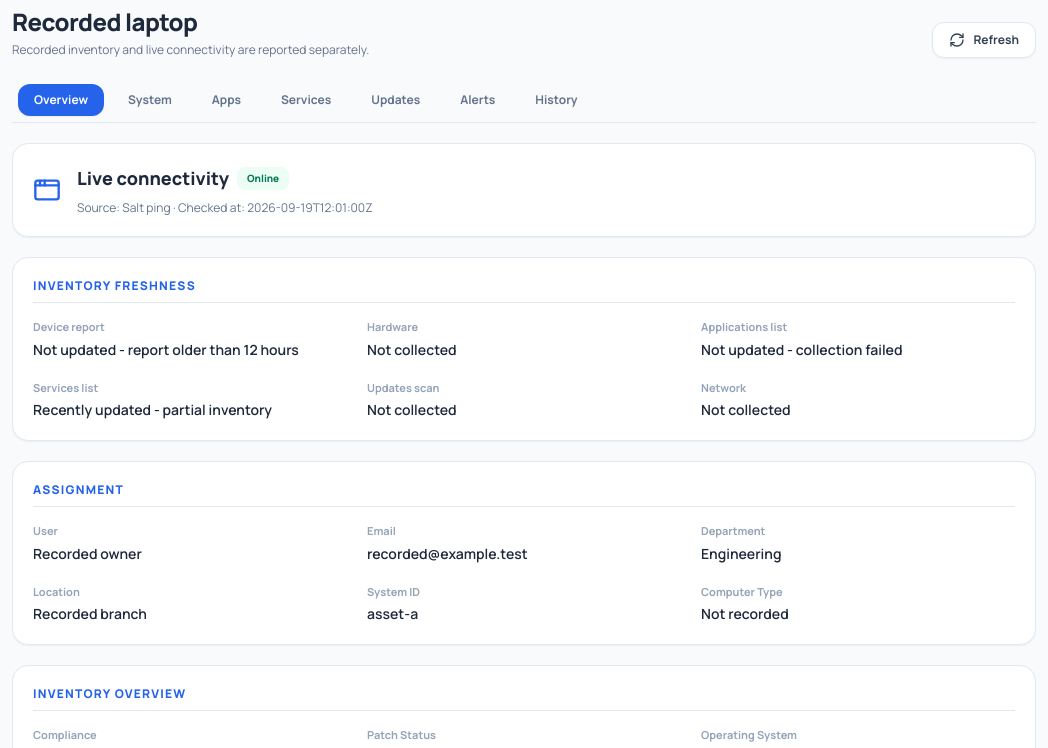
actual device inventory › shows inventory freshness and recorded services without issuing mutations
Check: the heading "Recorded laptop" is shown, box [12, 5, 197, 38]
Check: the text "Not updated - collection failed" is shown, box [701, 340, 902, 358]
Click the tab "Services" at (306, 100), box [265, 84, 347, 116]
(page scrolled)
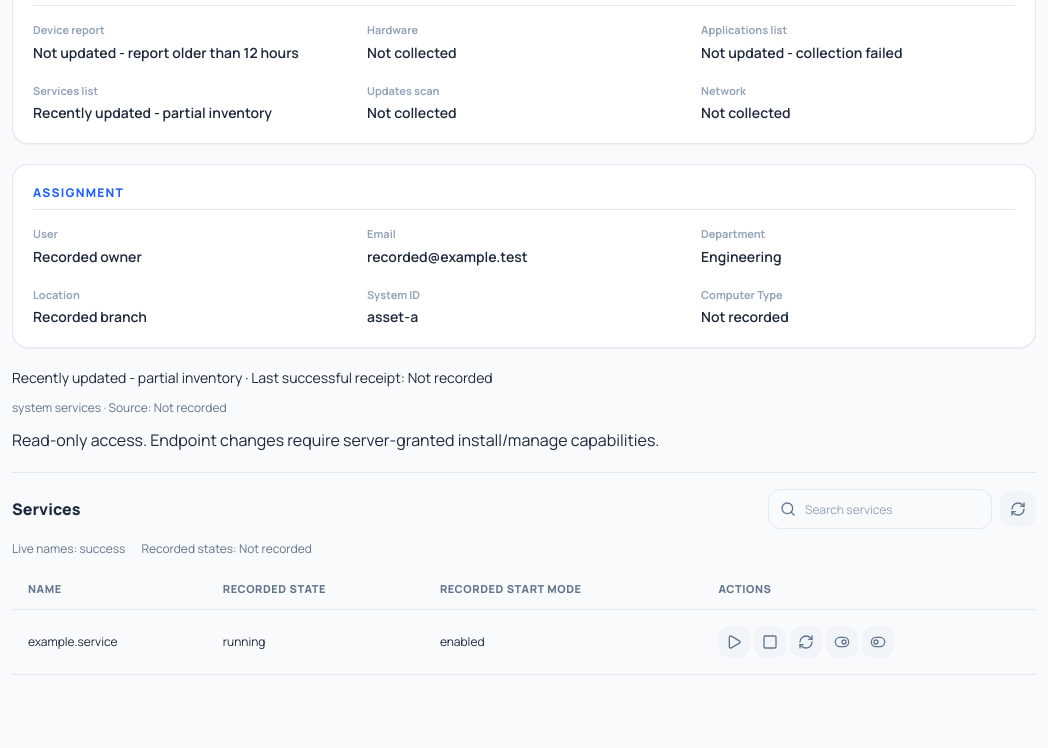
Check: the text "example.service" is shown, box [12, 610, 207, 674]
Check: the text "running" is shown, box [207, 610, 424, 674]
